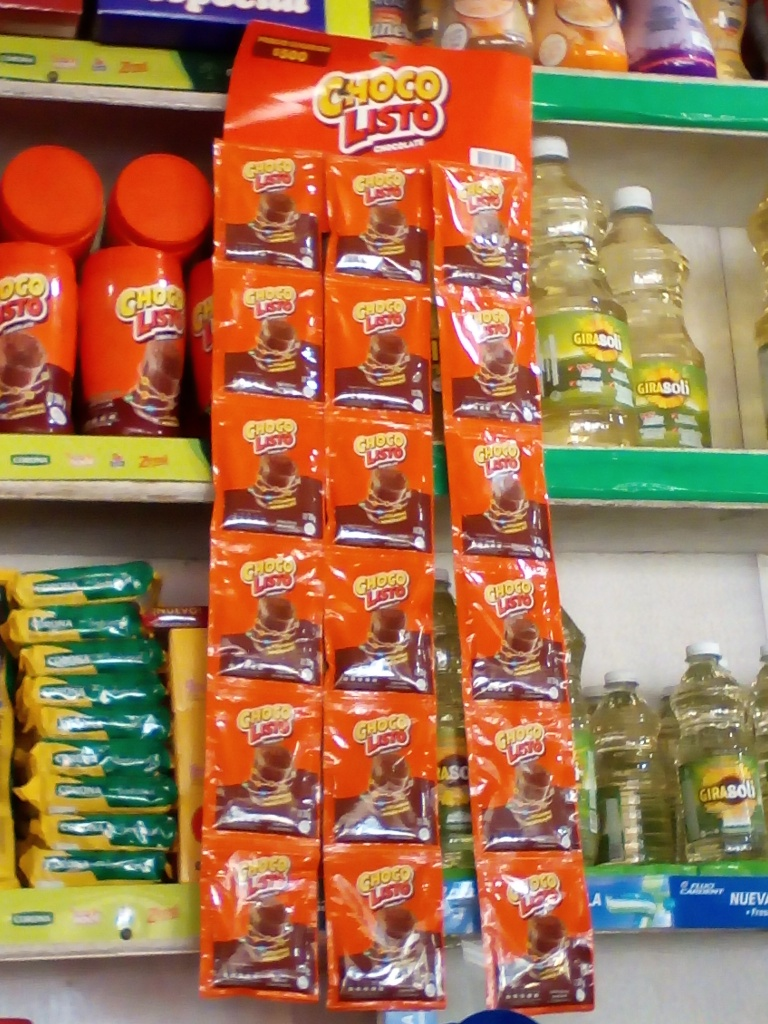COL0170103SOB02000: (214, 136, 323, 275)
